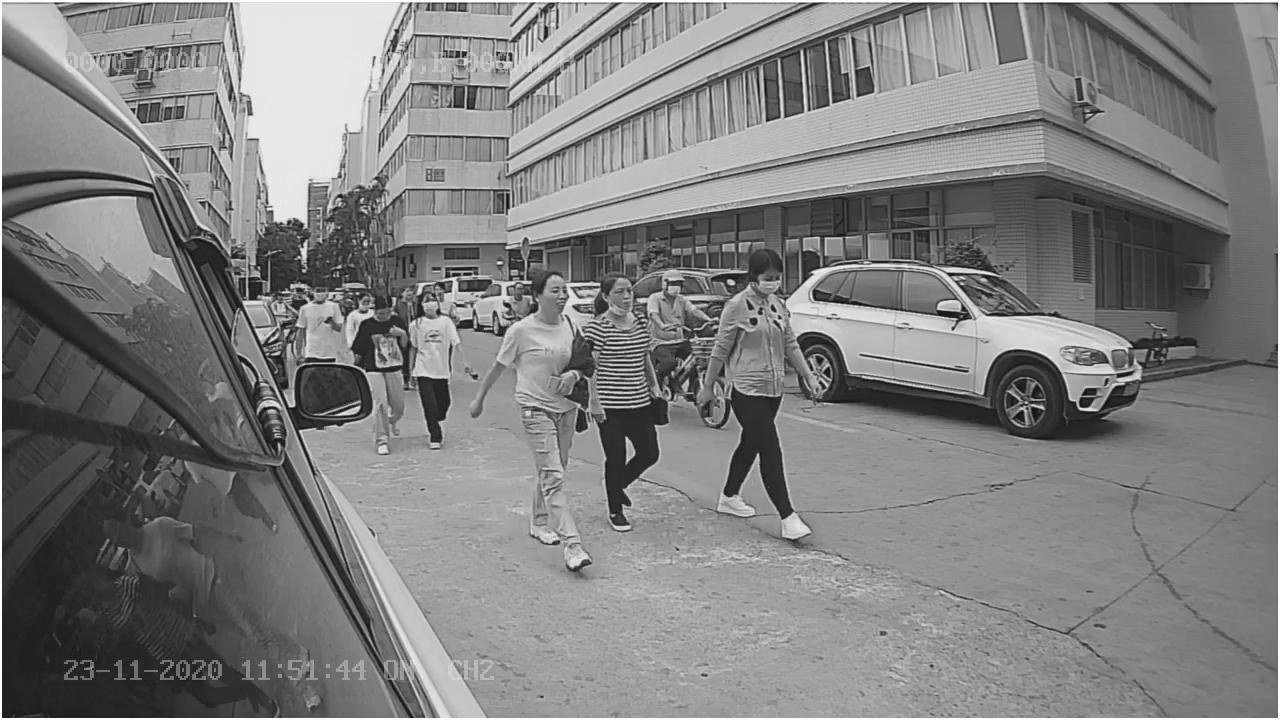person: (694, 232, 825, 548), (467, 269, 600, 570)
